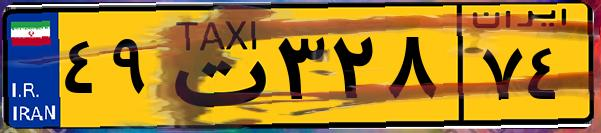2: (330, 28, 385, 110)
3: (270, 28, 330, 110)
4: (57, 26, 110, 100), (525, 38, 570, 115)
7: (475, 38, 525, 113)
8: (385, 28, 445, 110)
9: (110, 28, 158, 98)
ت: (158, 12, 270, 120)
